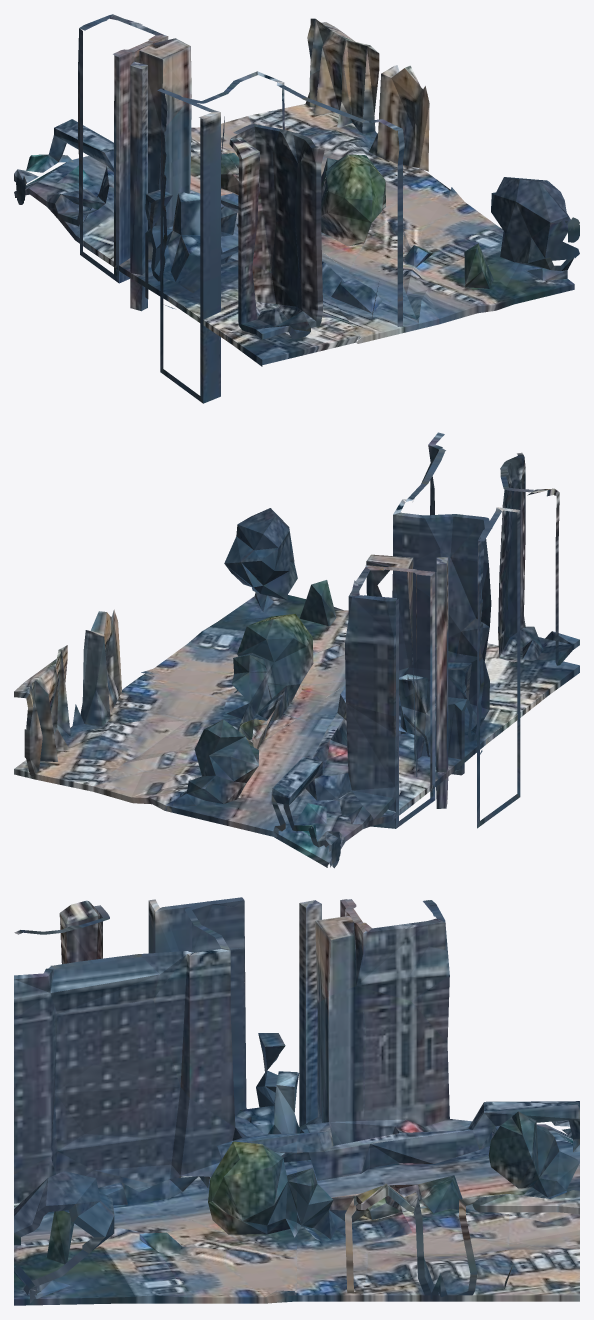
The model's file is chunk_5_5.glb.
3 renders of one model, top to bottom at view 1: azimuth 30°, elevation 25°; view 2: azimuth 150°, elevation 25°; view 3: azimuth 270°, elevation 25°, orthographic. The views are drawn at different scales.
Parts seen in each view (by area): view 1: hero-chunk; view 2: hero-chunk; view 3: hero-chunk.
Part boxes in pixels (x1,y1,x2,y2): hero-chunk: (14,14,579,403); hero-chunk: (14,432,579,868); hero-chunk: (14,897,579,1305).
Size of the model in its own units: 57.27 by 48.56 by 76.32.
Materials: 1 (1 with a texture image).
